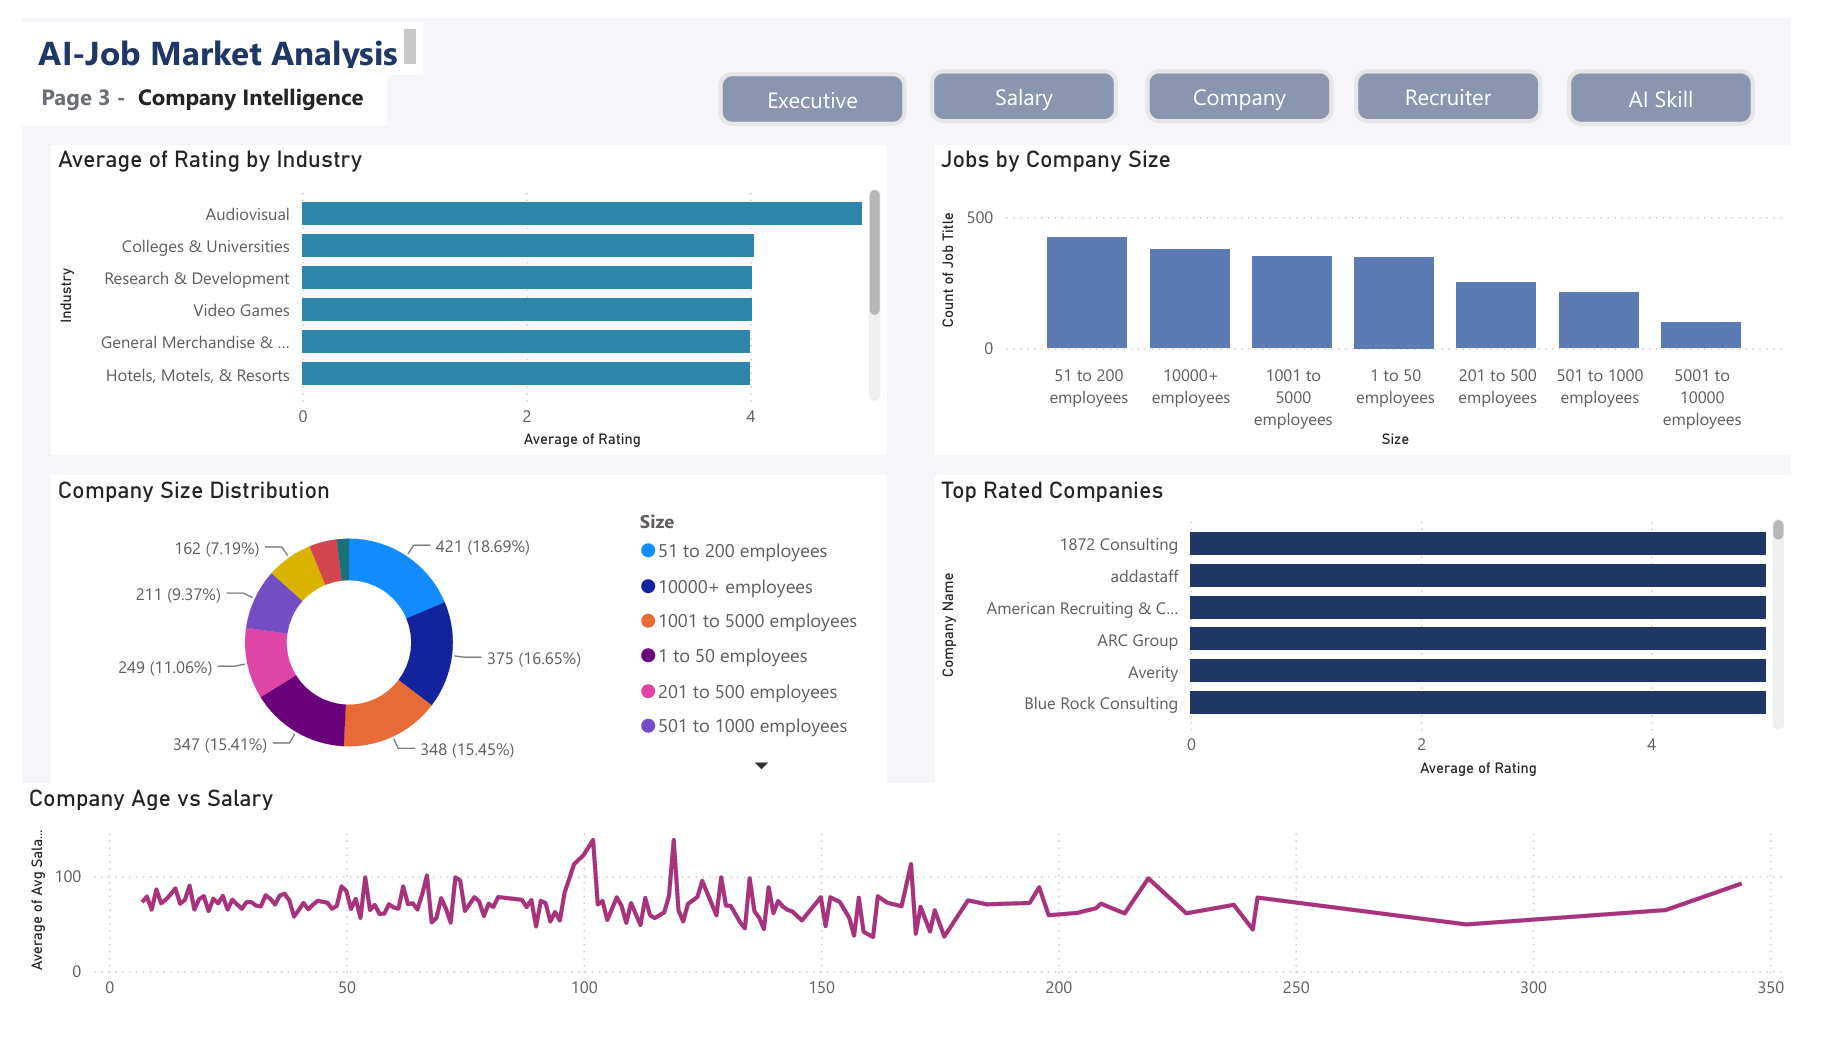

The dashboard page shown, as its layout file describes it:
{"tool":"powerbi","page":{"name":"Company Intelligence","canvas":[1280,720],"ordinal":2},"visuals":[{"type":"textbox","box":[0,2.7,289.5,38.4],"z":0},{"type":"textbox","box":[0,41.2,263.8,36.2],"z":1000},{"type":"clusteredBarChart","fields":{"Category":["jobs_sql.Industry"],"Y":["Avg(jobs_sql.Rating)"]},"box":[20.6,91.9,605.1,223.7],"z":6000},{"type":"clusteredBarChart","title":"Top Rated Companies","fields":{"Category":["jobs_sql.Company Name"],"Y":["Avg(jobs_sql.Rating)"]},"box":[660,330.7,620.2,223.7],"z":7000},{"type":"clusteredColumnChart","title":"Jobs by Company Size","fields":{"Category":["jobs_sql.Size"],"Y":["CountNonNull(jobs_sql.Job Title)"]},"box":[660,91.9,620.2,223.7],"z":8000},{"type":"donutChart","title":"Company Size Distribution","fields":{"Category":["jobs_sql.Size"],"Y":["CountNonNull(jobs_sql.Job Title)"]},"box":[20.6,330.7,605.1,223.7],"z":9000},{"type":"lineChart","title":"Company Age vs Salary","fields":{"Category":["jobs_sql.Company Age"],"Y":["Avg(jobs_sql.Avg Salary)"]},"box":[0,553.8,1280,166.2],"z":10000},{"type":"actionButton","box":[504.4,38.8,135.8,38.8],"z":10001},{"type":"actionButton","box":[656.8,37.4,135.8,38.8],"z":10002},{"type":"actionButton","box":[964.4,37.4,135.8,38.8],"z":10004},{"type":"actionButton","box":[1118.2,37.4,135.8,40.2],"z":10005},{"type":"actionButton","box":[813.3,37.4,135.8,38.8],"z":10006}]}

Visuals, with their boxes in screenshot pixels (x1, y1, x2, y2), scaled from the page's 1280x720 canvas onto the 1823x1037 screenshot:
textbox: left=0, top=4, right=412, bottom=59
textbox: left=0, top=59, right=376, bottom=111
clusteredBarChart - jobs_sql.Industry x Avg(jobs_sql.Rating): left=29, top=132, right=891, bottom=455
"Top Rated Companies" clusteredBarChart: left=940, top=476, right=1822, bottom=798
"Jobs by Company Size" clusteredColumnChart: left=940, top=132, right=1822, bottom=455
"Company Size Distribution" donutChart: left=29, top=476, right=891, bottom=798
"Company Age vs Salary" lineChart: left=0, top=798, right=1822, bottom=1036
actionButton: left=718, top=56, right=912, bottom=112
actionButton: left=935, top=54, right=1129, bottom=110
actionButton: left=1374, top=54, right=1567, bottom=110
actionButton: left=1593, top=54, right=1786, bottom=112
actionButton: left=1158, top=54, right=1352, bottom=110
